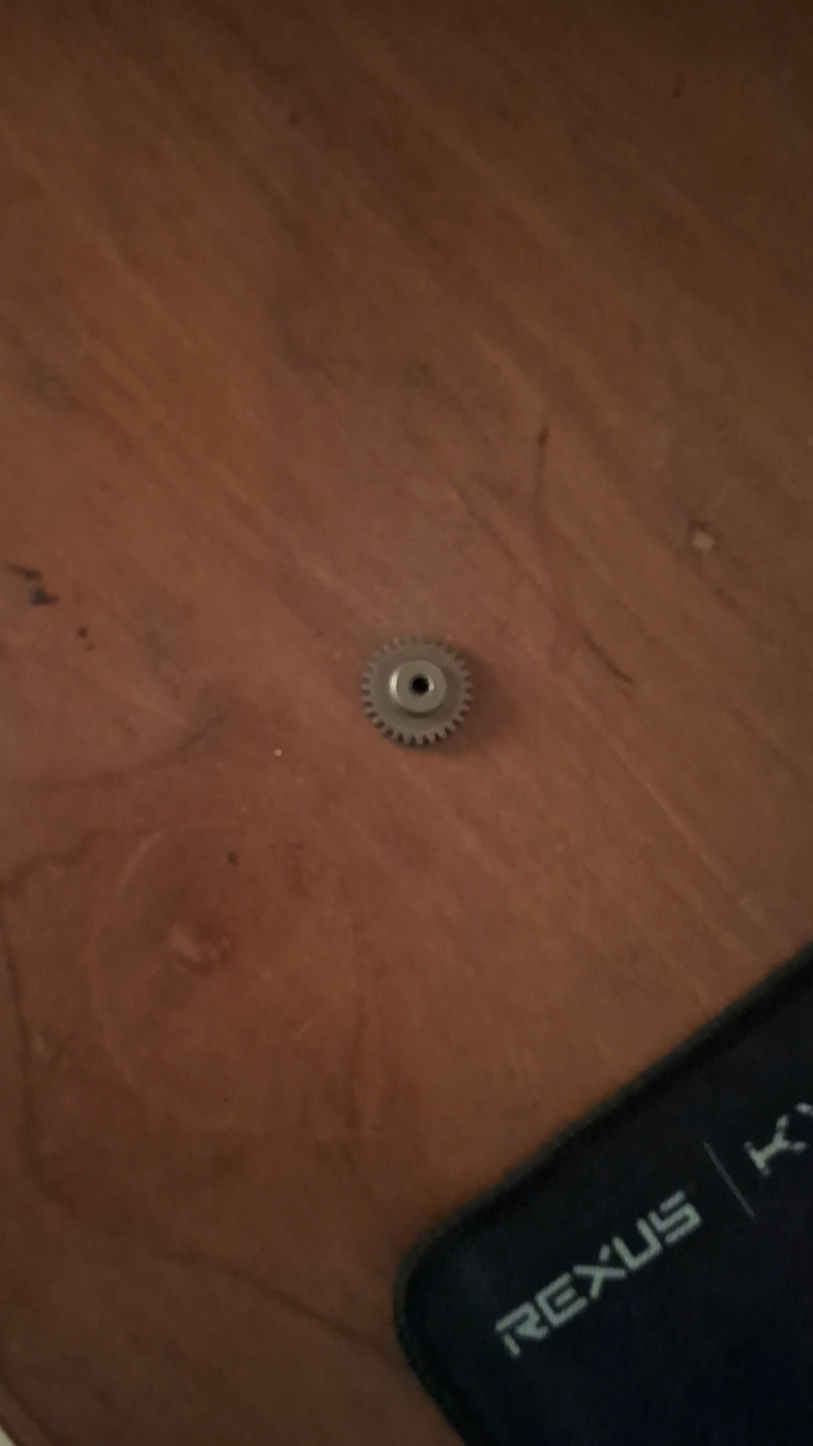spur gear: (362, 639, 470, 746)
